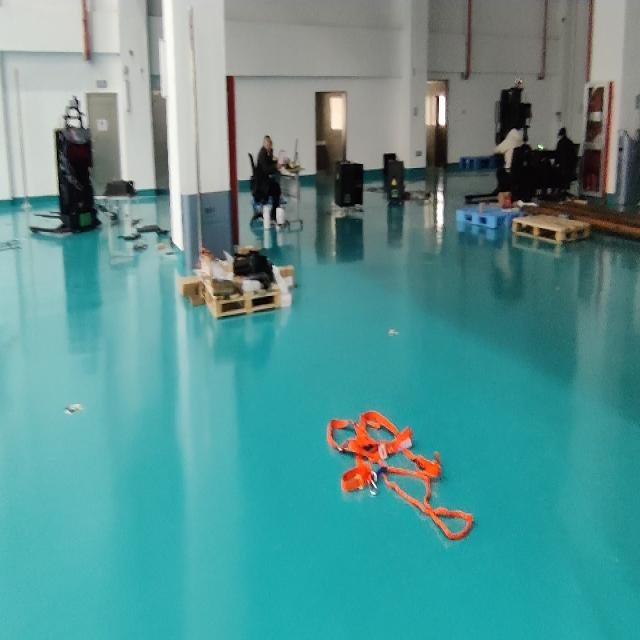euro: (515, 211, 594, 244), (203, 290, 280, 318)
